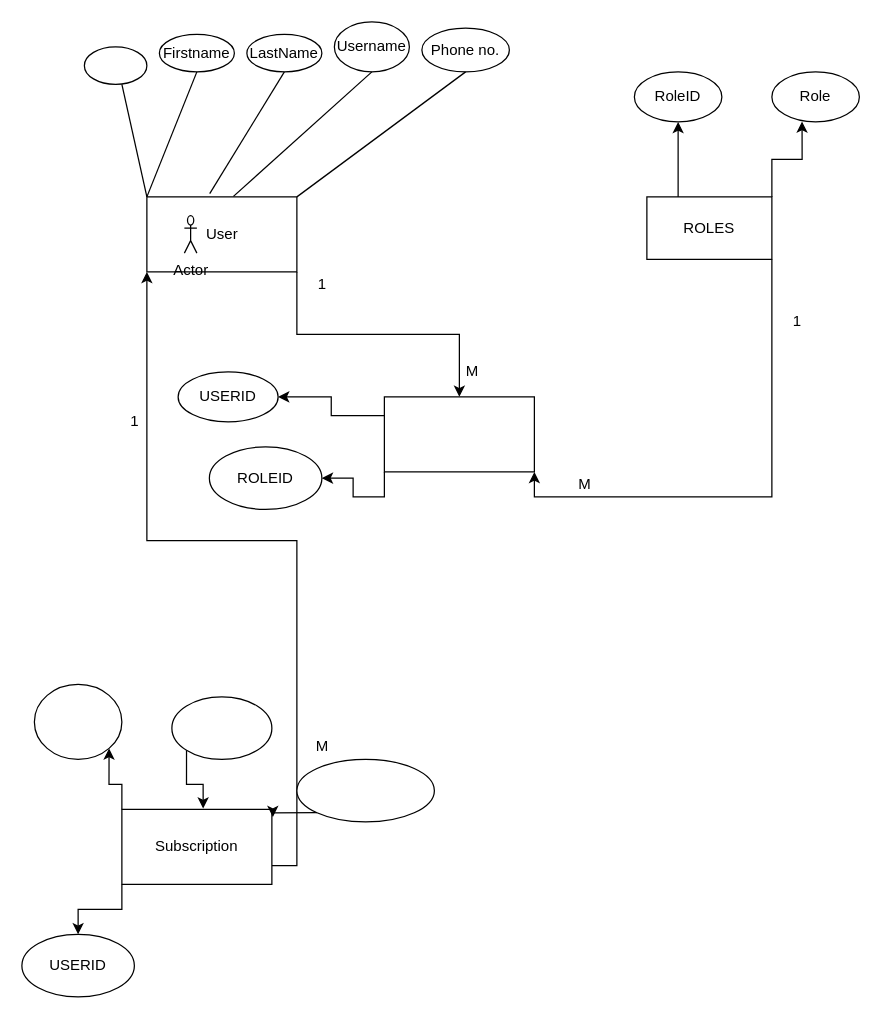
Image size: 881x1019. Some labels were removed from this diagram. The centre of each missing label's shape, as x and y in pixels:
CourseID: point 221,727
ID: point 115,65
m/m Rel table: point 458,434
SubID: point 77,721
SubscriptionDate: point 365,790
